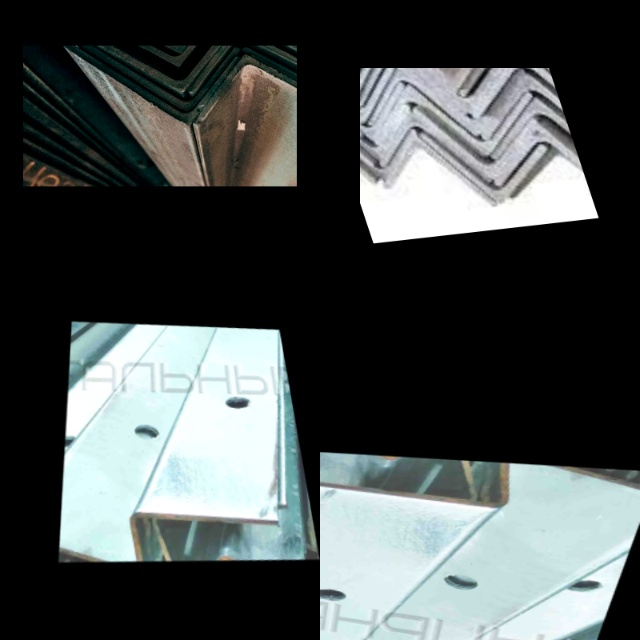Angle: (132, 499, 281, 581), (71, 49, 235, 119), (419, 102, 548, 181), (320, 453, 515, 505), (424, 125, 555, 202), (71, 46, 235, 107), (486, 131, 596, 221), (419, 85, 545, 158), (376, 138, 492, 212), (469, 79, 576, 159), (481, 103, 585, 184), (413, 71, 536, 135), (462, 68, 569, 139), (200, 58, 297, 134), (63, 46, 226, 85), (396, 68, 526, 110), (193, 46, 297, 95), (450, 68, 560, 112), (360, 119, 424, 178), (360, 71, 415, 139), (360, 94, 417, 156), (246, 48, 297, 111), (251, 56, 297, 124), (389, 68, 518, 91), (71, 46, 220, 65), (555, 466, 640, 498), (360, 68, 407, 121), (237, 46, 297, 77), (360, 68, 395, 100), (228, 46, 297, 58)
